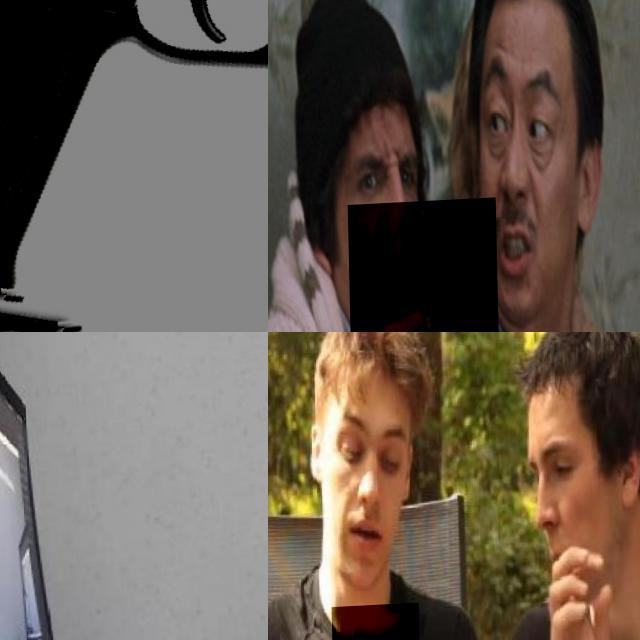gun-knife-thesis - v11 Yolov5 augmented: (0, 0, 268, 332), (346, 201, 498, 332)
